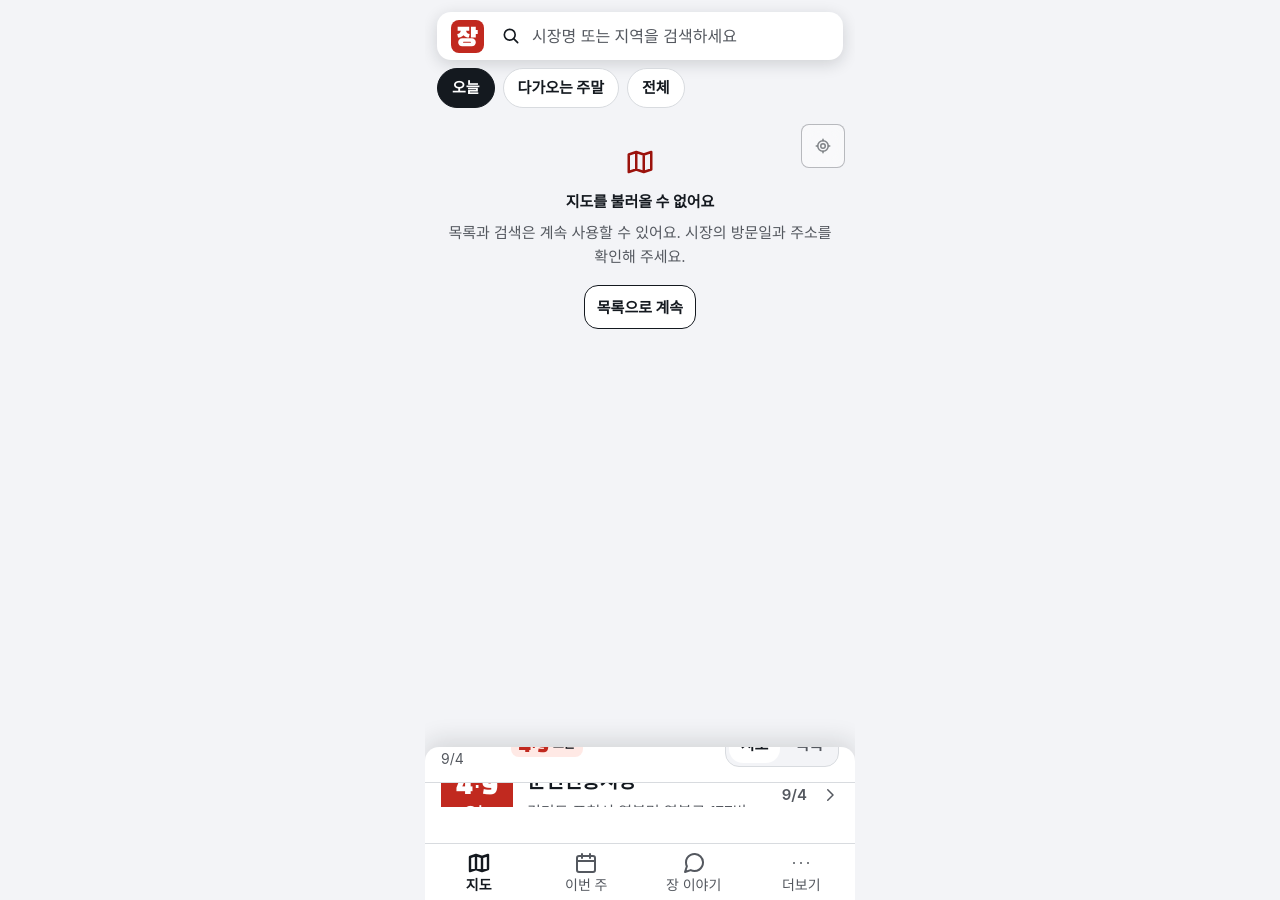
it: MarketExplorer › 선택한 시장의 온누리상품권 가맹점 수를 보여준다
(page scrolled)
Click the link "4·9 오늘 운천전통시장 경기도 포천시 영북면 영북로 177번길 25 9/4".
click(477, 795)  # box [441,747,839,843]
(page scrolled)
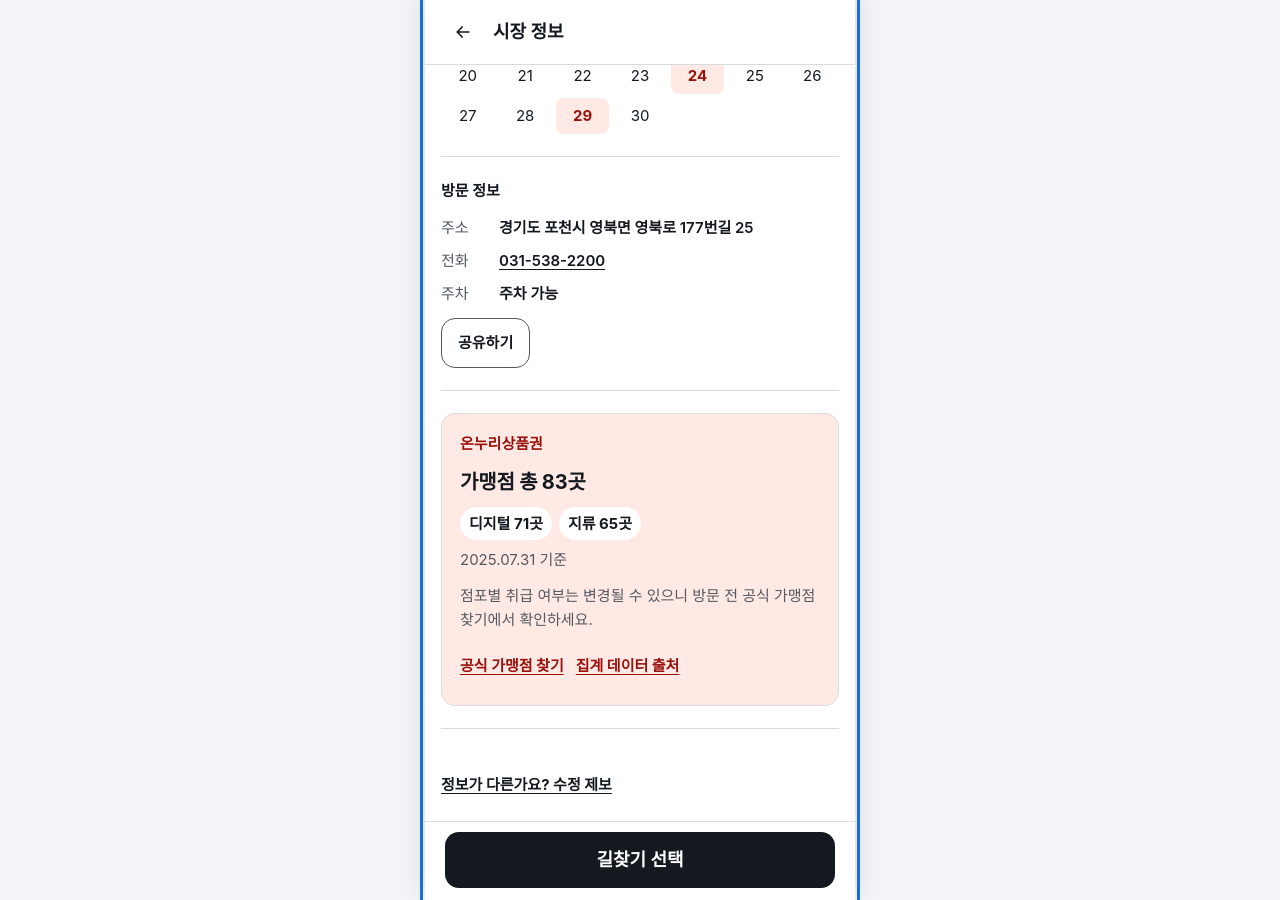
Expected: the heading "온누리상품권" is shown, [460,434,543,452]
Expected: the text "가맹점 총 83곳" is shown, [460,470,586,494]
